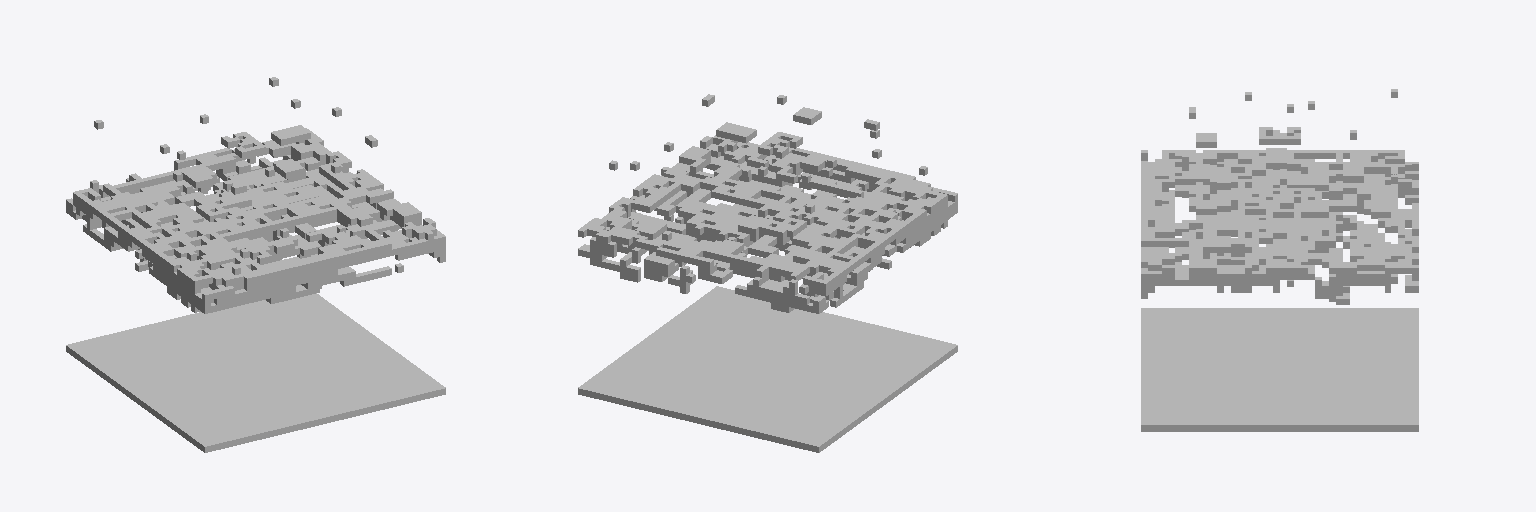
File: cloud tile.obj
3 renders of one model, left to right at view 1: azimuth 30°, elevation 25°; view 2: azimuth 150°, elevation 25°; view 3: azimuth 270°, elevation 25°, orthographic.
Parts seen in each view (by area): view 1: object 1; view 2: object 1; view 3: object 1.
Boxes of the visible parts, box(x1,y1,x2,y2) form: object 1: box(66, 77, 445, 452); object 1: box(578, 94, 957, 452); object 1: box(1141, 89, 1418, 431).
Size of the model in its own units: 4 by 3.7 by 4.